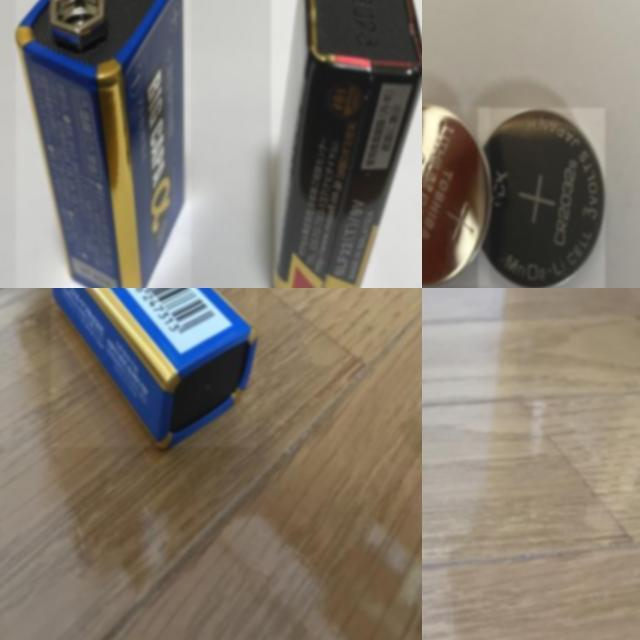9V: (16, 0, 191, 288), (271, 0, 422, 288), (51, 288, 257, 447)
